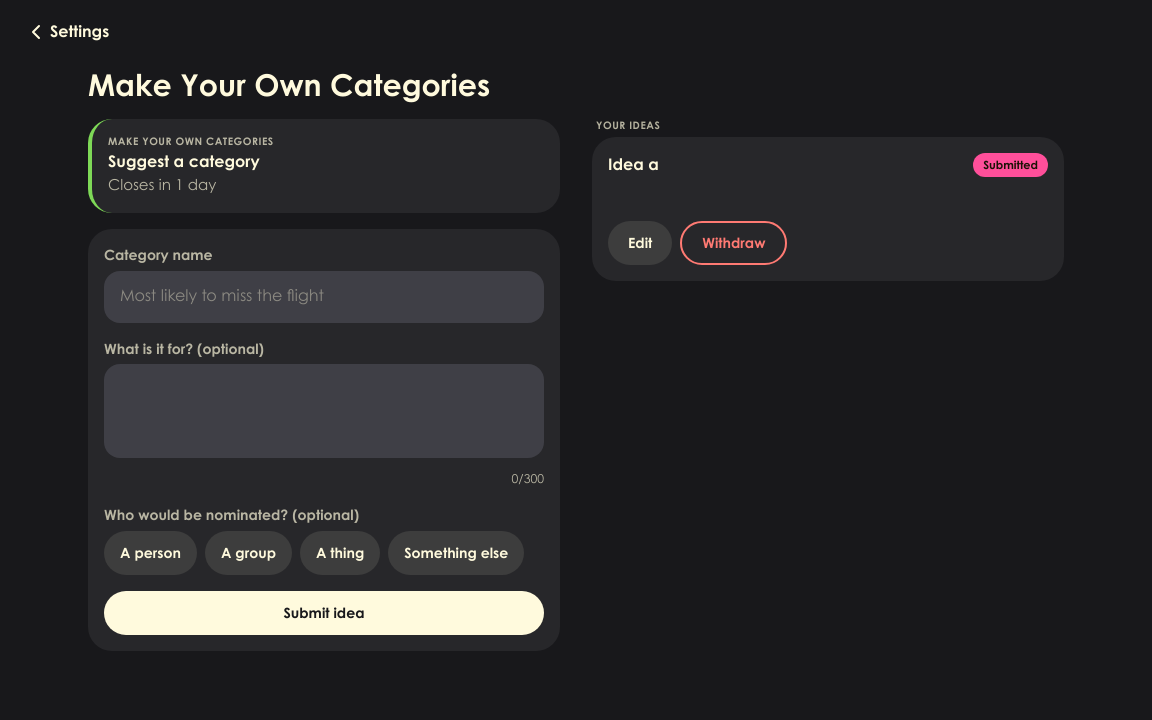
Test case: member view › edits an idea in a sheet with a single Close
Later steps or results of the test are not shown.
Click the button with aria-label "Edit Idea a" at (640, 243), box [608,221,672,265]
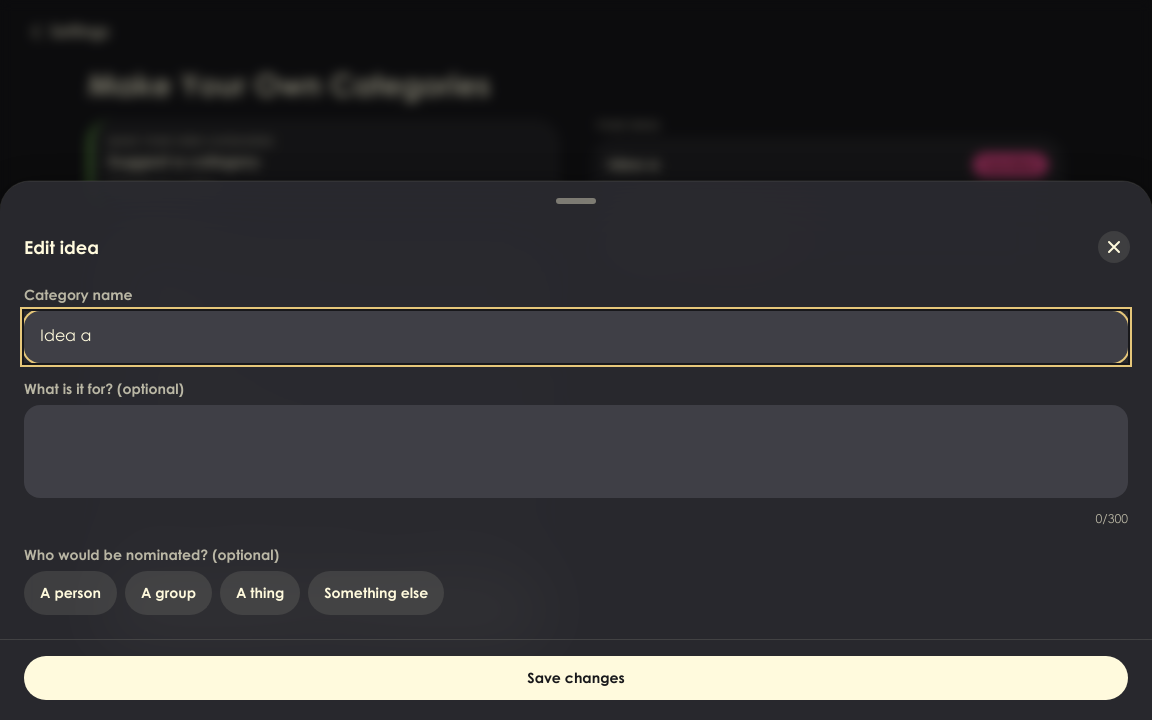
Expected: the number of buttons named "Close" is 1, [1092,225,1136,269]
